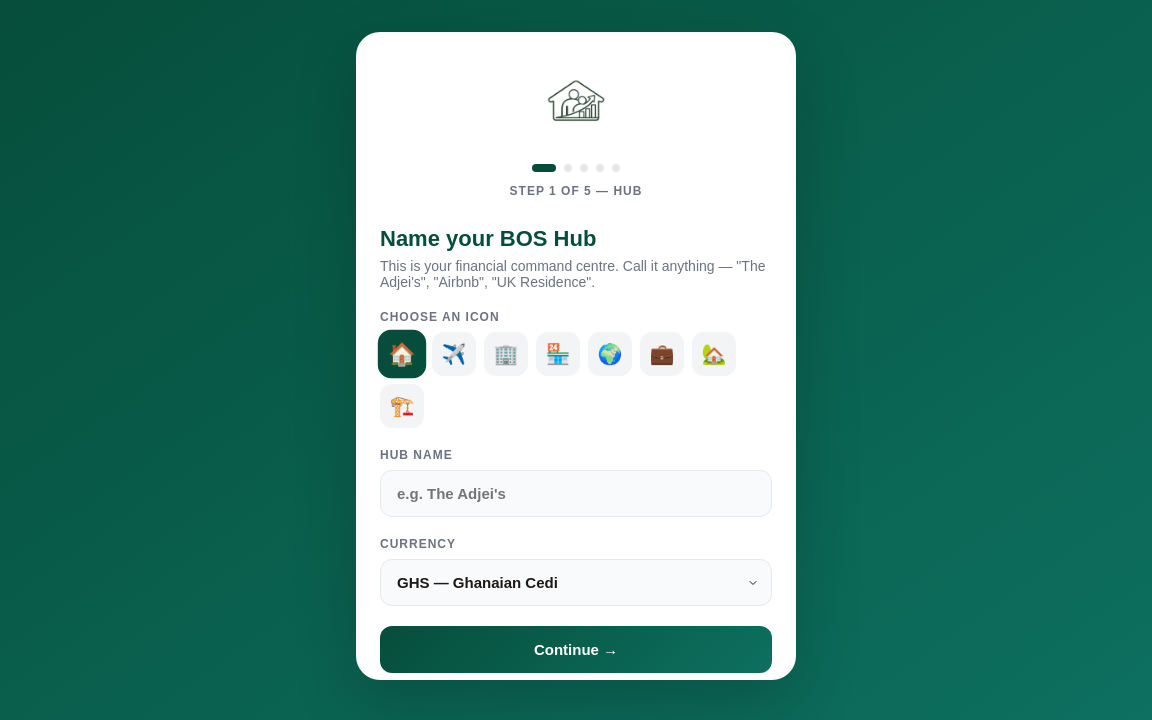
it: OnboardingFlow — tier threading › free: the income step stops at 2 streams with the upgrade note
This screenshot has width=1152, height=720.
Type "My Hub" into the field with placeholder "e.g. The Adjei's" at [576, 494], box [380, 470, 772, 517]
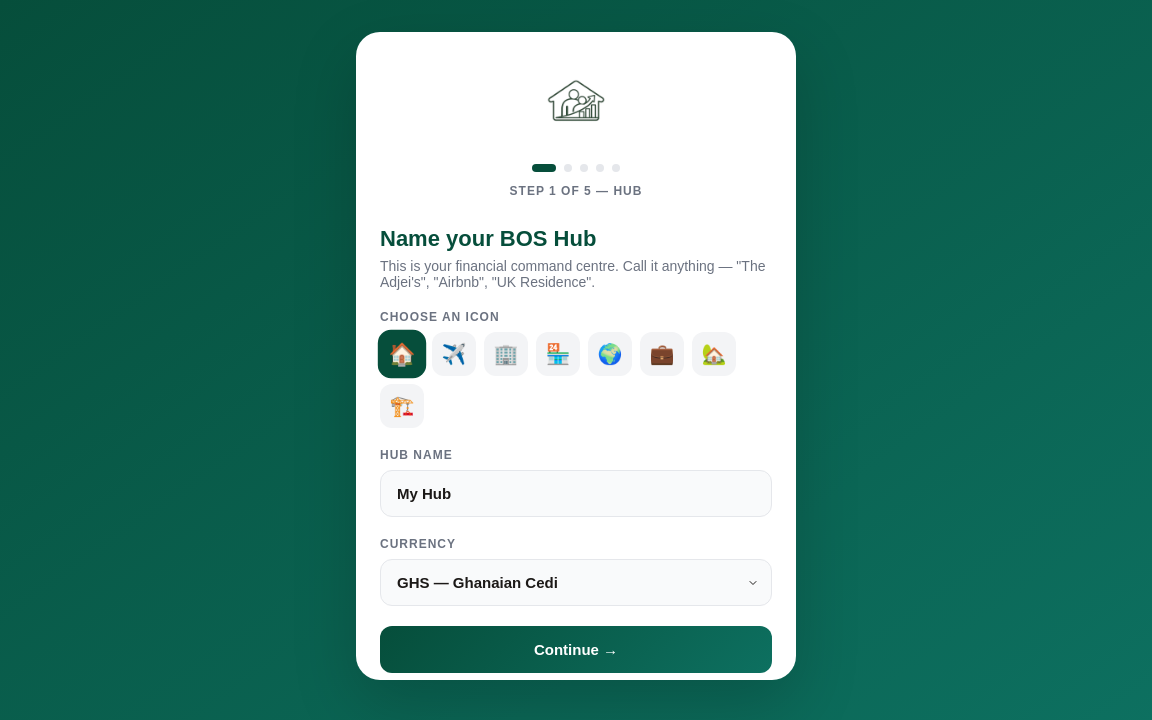
Click the button "Continue →" at [576, 650], box [380, 626, 772, 673]
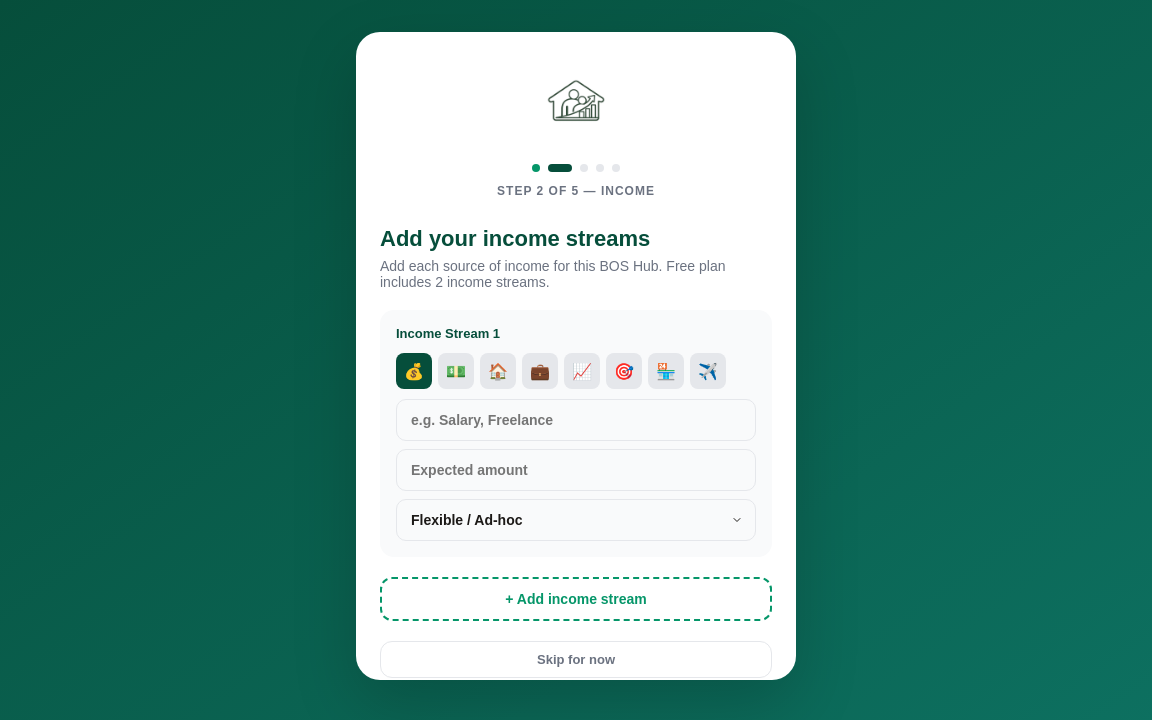
Click the button with test id "income-stream-add-btn" at [576, 599], box [380, 577, 772, 621]
(page scrolled)
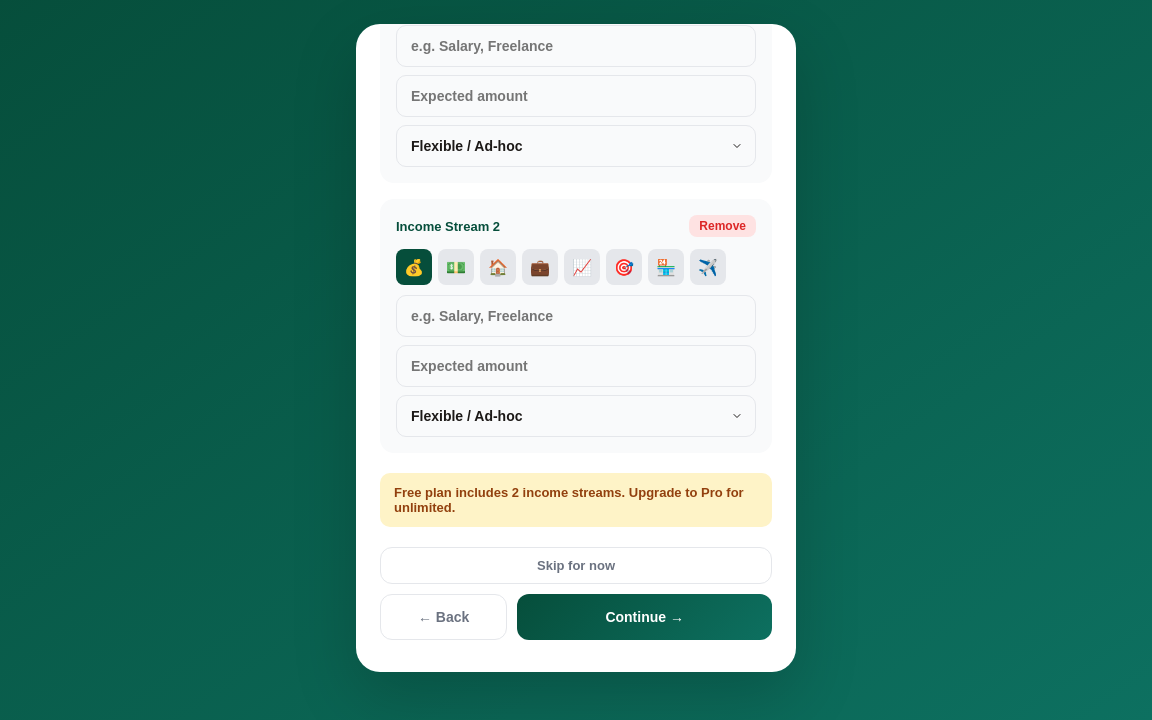
Check: the button with test id "income-stream-add-btn" is gone
Check: the text "Upgrade to Pro" is shown, box [394, 485, 744, 515]
